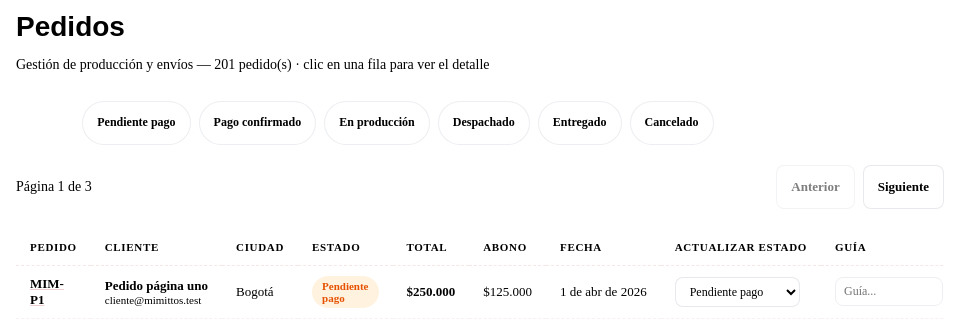
Scenario: PedidosAdminPage pagination › replaces first-page rows after requesting the next page
Check: the row with test id "order-row-MIM-P1" is shown, box [16,265,944,318]
Click the button with aria-label "Página siguiente": [903, 187] box [863,165,944,209]
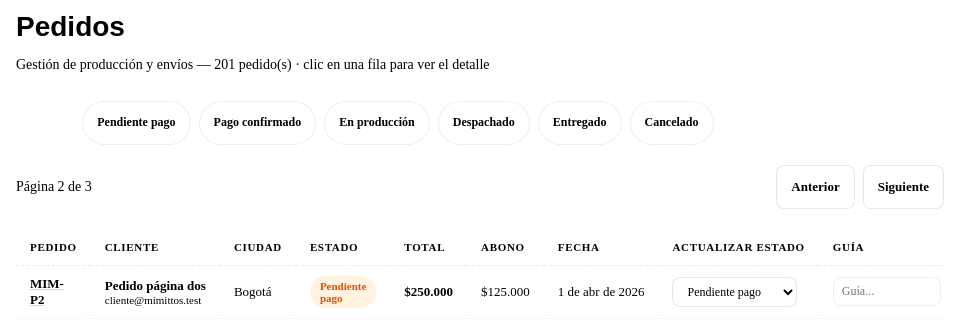
Check: the row with test id "order-row-MIM-P2" is shown, box [16,265,944,318]
Check: the row with test id "order-row-MIM-P1" is gone
Check: the row with test id "order-row-MIM-P2" shows "Pedido página dos", box [105,278,206,293]
